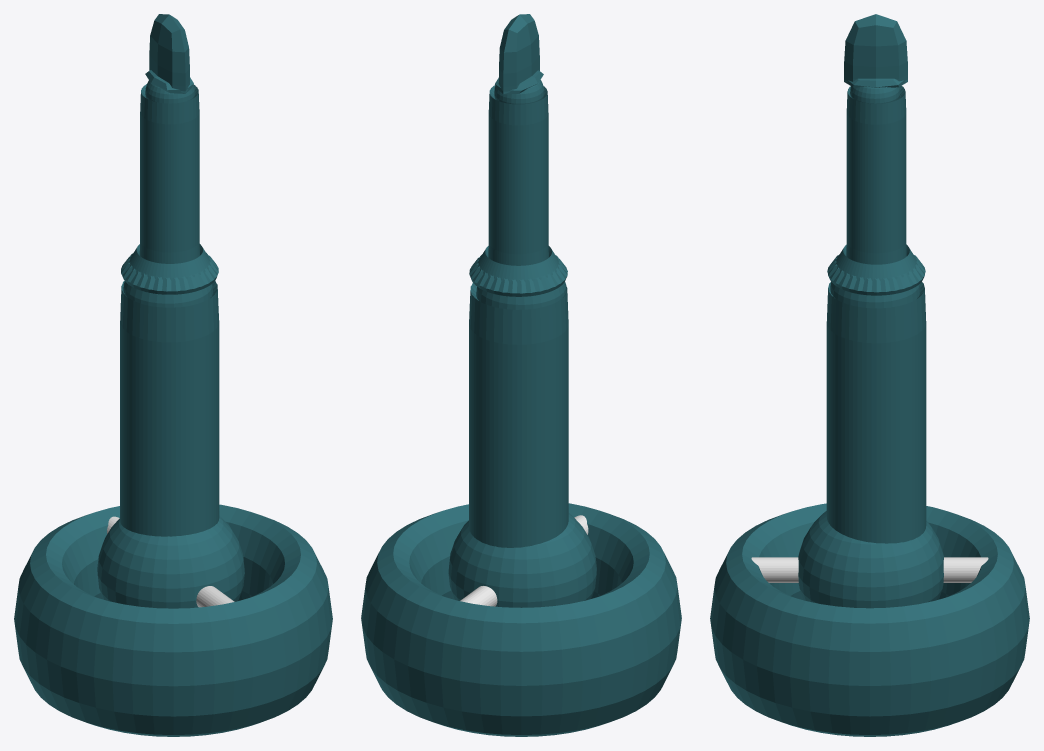
Rendered from Robot.glb.
3 renders of one model, left to right at view 1: azimuth 30°, elevation 25°; view 2: azimuth 150°, elevation 25°; view 3: azimuth 270°, elevation 25°, orthographic.
Visible parts, largest first — view 1: Shoulder_Holder, Upper_Arm, Lower_Arm, Shoulder, Hand, Elbow, Wrist, Shoulder_Rotater; view 2: Shoulder_Holder, Upper_Arm, Lower_Arm, Shoulder, Hand, Elbow, Wrist, Shoulder_Rotater; view 3: Shoulder_Holder, Upper_Arm, Lower_Arm, Shoulder, Hand, Shoulder_Rotater, Elbow, Wrist.
Part boxes in pixels (left/top/right/bottom): Shoulder_Holder: left=14, top=504, right=332, bottom=736; Upper_Arm: left=120, top=281, right=219, bottom=536; Lower_Arm: left=121, top=84, right=218, bottom=294; Shoulder: left=97, top=516, right=244, bottom=608; Hand: left=145, top=14, right=193, bottom=93; Elbow: left=123, top=281, right=213, bottom=307; Wrist: left=145, top=80, right=195, bottom=103; Shoulder_Rotater: left=107, top=516, right=234, bottom=607; Shoulder_Holder: left=361, top=503, right=681, bottom=736; Upper_Arm: left=469, top=283, right=568, bottom=547; Lower_Arm: left=469, top=85, right=567, bottom=296; Shoulder: left=448, top=513, right=596, bottom=607; Hand: left=495, top=14, right=543, bottom=94; Elbow: left=476, top=282, right=566, bottom=309; Wrist: left=494, top=80, right=544, bottom=104; Shoulder_Rotater: left=460, top=515, right=588, bottom=606; Shoulder_Holder: left=710, top=503, right=1029, bottom=736; Upper_Arm: left=826, top=282, right=926, bottom=543; Lower_Arm: left=827, top=86, right=925, bottom=295; Shoulder: left=798, top=511, right=943, bottom=608; Hand: left=844, top=14, right=907, bottom=87; Shoulder_Rotater: left=751, top=557, right=988, bottom=582; Elbow: left=830, top=282, right=920, bottom=308; Wrist: left=850, top=86, right=900, bottom=103.
Bounding box in the file's own units: 1.08 × 2.49 × 1.08.
